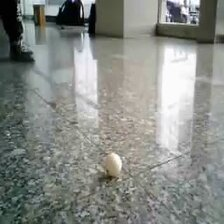w: (104, 152, 123, 176)
